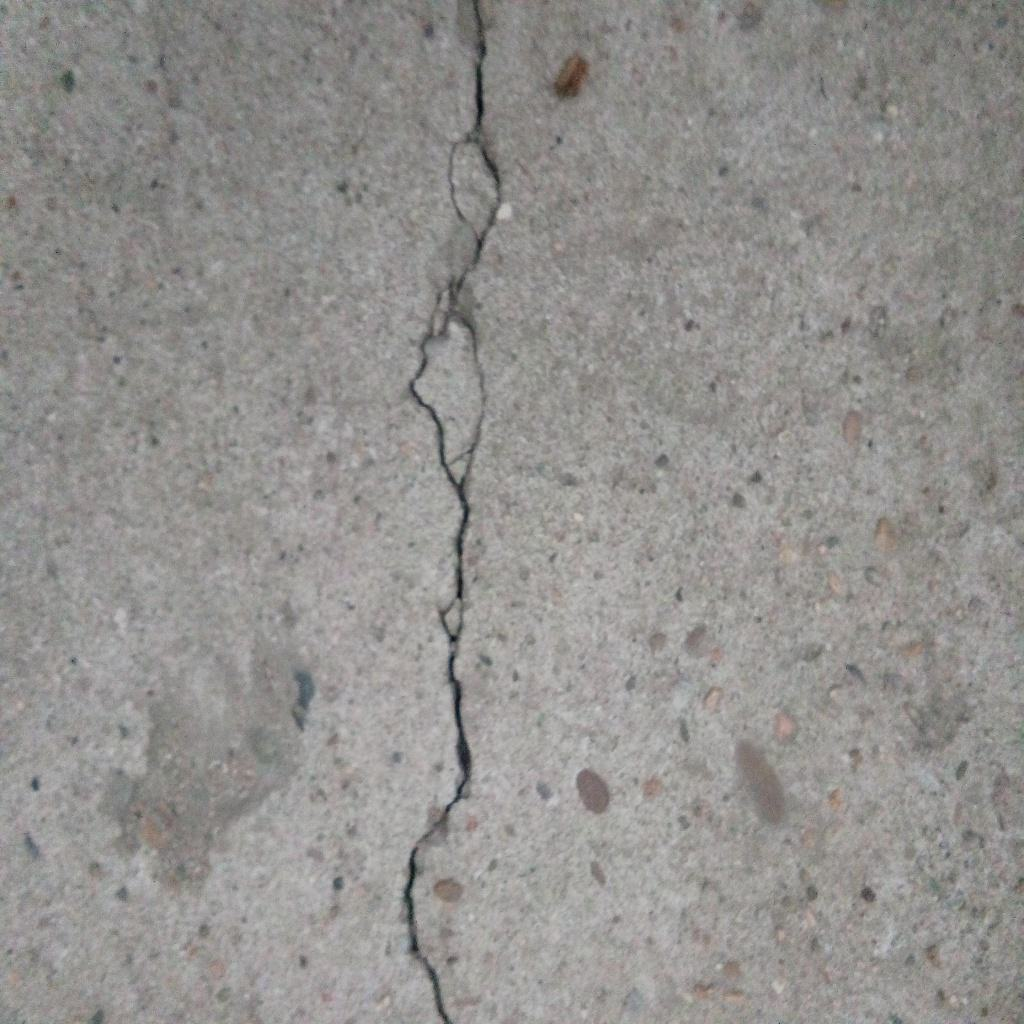Crack: (401, 1, 504, 1024)
